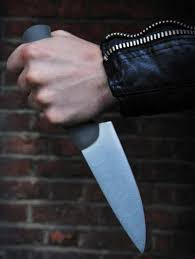knife: (18, 23, 150, 251)
